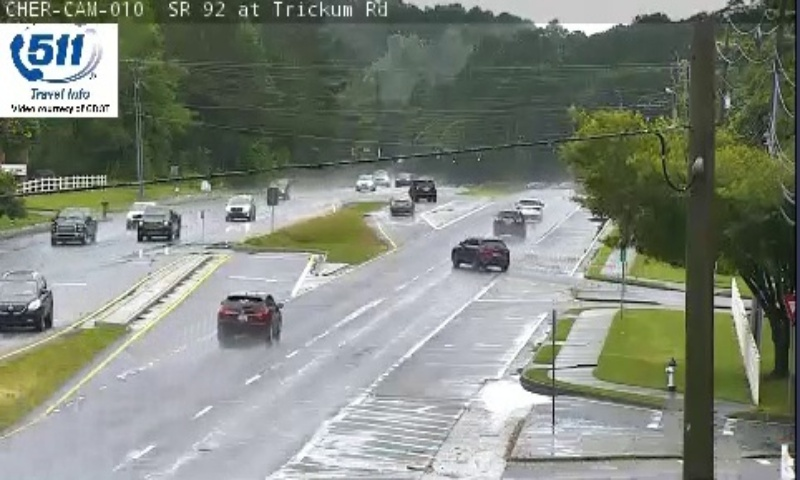car: (217, 294, 282, 341), (493, 209, 524, 238), (516, 198, 542, 221)
